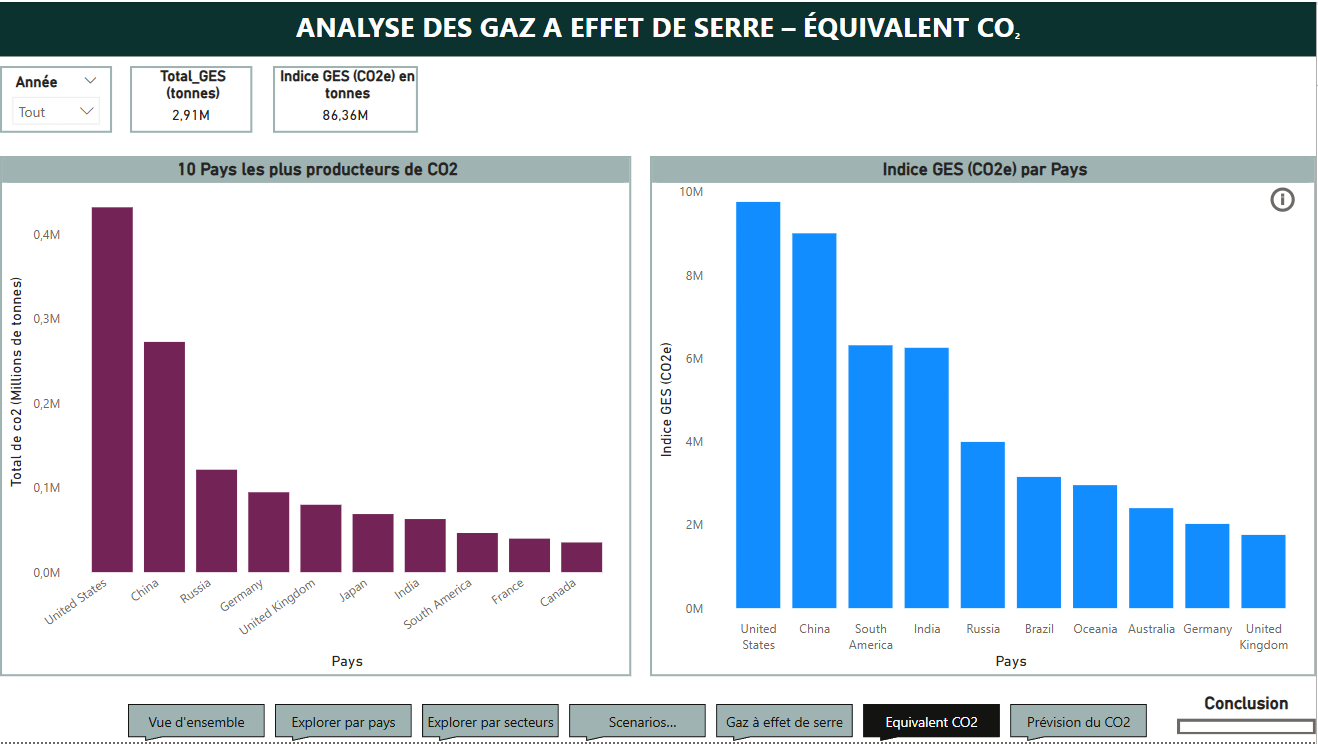

The dashboard page shown, as its layout file describes it:
{"tool":"powerbi","page":{"name":"Equivalent  CO2","canvas":[1280,720],"ordinal":5},"visuals":[{"type":"clusteredColumnChart","title":"10 Pays les plus producteurs de CO2","fields":{"Y":["Sum(Data.co2)"],"Category":["Data.Pays"]},"box":[0,149.8,613.7,505.8],"z":0},{"type":"clusteredColumnChart","fields":{"Y":["DAX.Indice GES (CO2e)"],"Category":["Data.Pays"]},"box":[632.2,149.8,647.8,505.8],"z":0,"group":"g1"},{"type":"actionButton","box":[1231,176,42.4,32.4],"z":1000,"group":"g1"},{"type":"actionButton","title":"Conclusion","box":[1144.8,672.1,135.2,39.9],"z":1000},{"type":"group","id":"g1","title":"Groupe 1","box":[632.2,149.8,647.8,505.8],"z":2000},{"type":"textbox","box":[0,0,1280,53.5],"z":3000},{"type":"slicer","fields":{"Values":["Data.Année"]},"box":[0,62.2,108.9,65.2],"z":4000},{"type":"card","title":"Total_GES (tonnes)","fields":{"Values":["DAX.Total_GES"]},"box":[126.4,62.2,118.7,65.2],"z":5000},{"type":"card","title":"Indice GES (CO2e) en tonnes","fields":{"Values":["DAX.Indice GES (CO2e)"]},"box":[265.5,62.2,141,65.2],"z":6000},{"type":"pageNavigator","box":[124.5,682.8,993.1,37],"z":7000}]}

Visuals, with their boxes in screenshot pixels (x1, y1, x2, y2), scaled from the page's 1280x720 canvas onto the 1318x744 screenshot:
"10 Pays les plus producteurs de CO2" clusteredColumnChart: locate(0, 155, 632, 677)
clusteredColumnChart - DAX.Indice GES (CO2e) x Data.Pays: locate(651, 155, 1317, 677)
actionButton: locate(1268, 182, 1311, 215)
"Conclusion" actionButton: locate(1179, 695, 1317, 736)
"Groupe 1" group: locate(651, 155, 1317, 677)
textbox: locate(0, 0, 1317, 55)
slicer - Data.Année: locate(0, 64, 112, 132)
"Total_GES (tonnes)" card: locate(130, 64, 252, 132)
"Indice GES (CO2e) en tonnes" card: locate(273, 64, 419, 132)
pageNavigator: locate(128, 706, 1151, 743)
